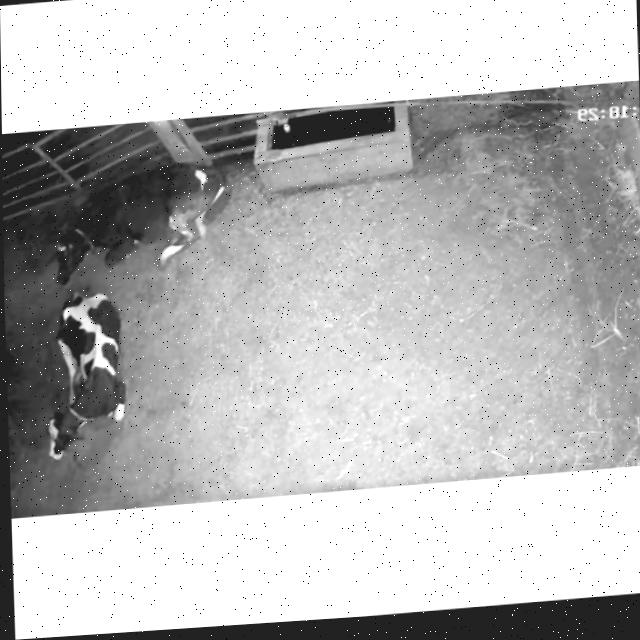lay: (24, 149, 241, 291), (28, 282, 141, 468)
